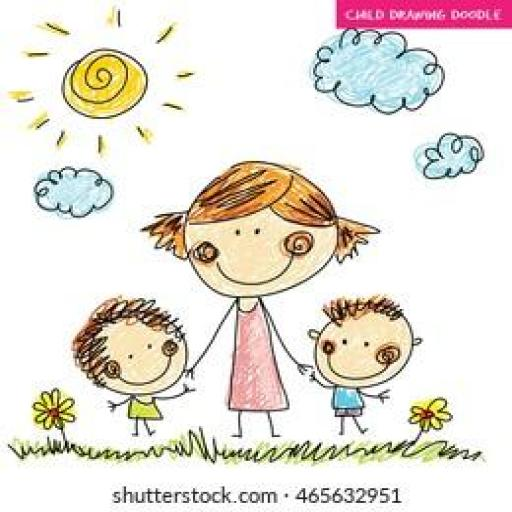person: (155, 135, 374, 438), (69, 293, 194, 444), (297, 294, 425, 434)
